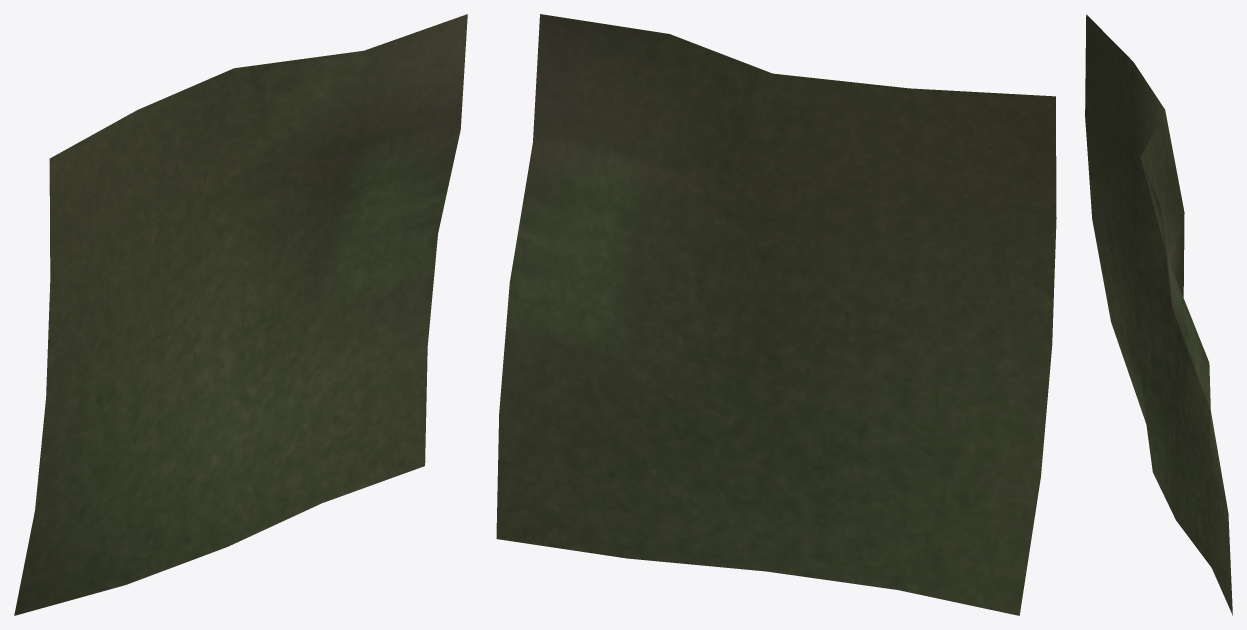
File: terrain_far_01_02.obj
3 views of the same model, side by side, from view 1: azimuth 30°, elevation 25°; view 2: azimuth 150°, elevation 25°; view 3: azimuth 270°, elevation 25° (orthographic). The views are drawn at different scales.
Parts seen in each view (by area): view 1: terrain_far_01_02; view 2: terrain_far_01_02; view 3: terrain_far_01_02.
Boxes of the visible parts, x1,y1,x2,y2 form: terrain_far_01_02: [14, 14, 467, 615]; terrain_far_01_02: [496, 14, 1056, 615]; terrain_far_01_02: [1085, 14, 1232, 615].
Size of the model in its own units: 288 by 288 by 93.98.
Materials: 1 (1 with a texture image).
